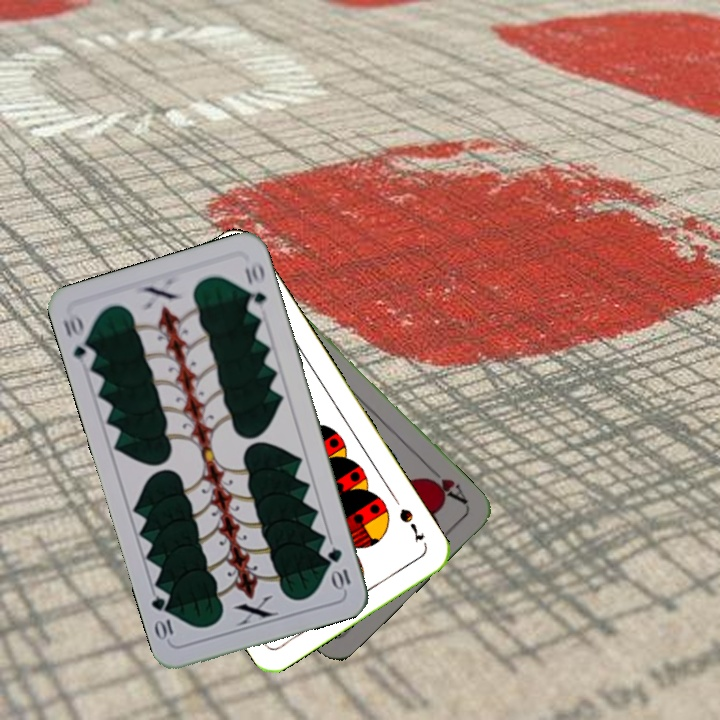G10: (58, 310, 98, 366), (324, 543, 353, 593)
HA: (420, 461, 471, 508)
S7: (395, 504, 427, 545)
